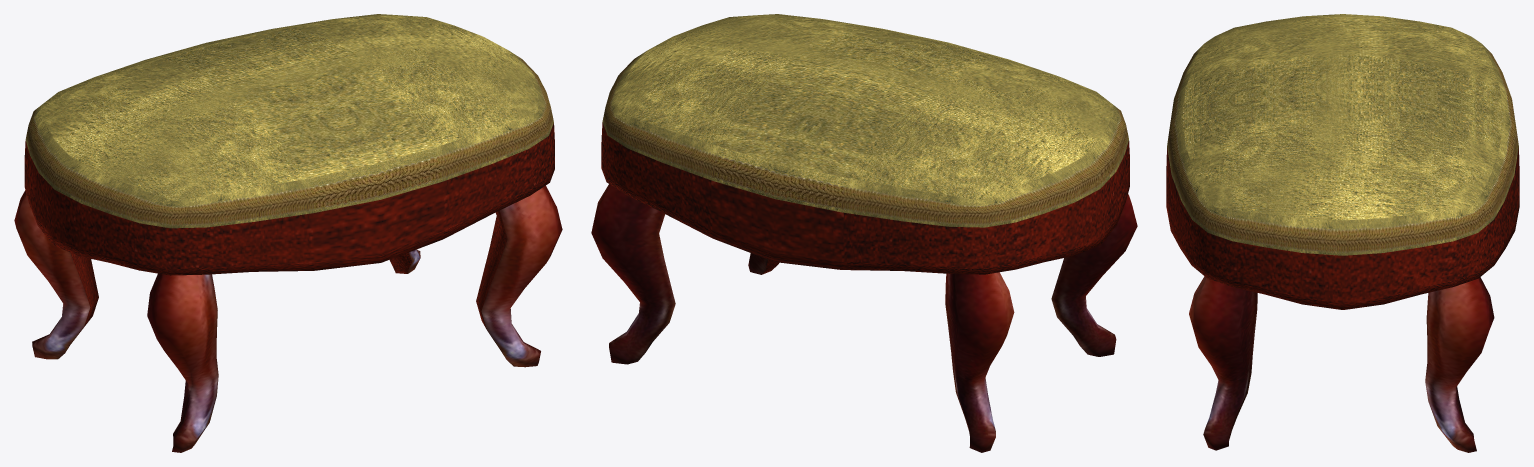
Rendered from Ottoman.fbx.
The picture shows the model from 3 angles, left to right: view 1: azimuth 30°, elevation 25°; view 2: azimuth 150°, elevation 25°; view 3: azimuth 270°, elevation 25°; orthographic projection. The views are drawn at different scales.
Parts seen in each view (by area): view 1: Ottoman; view 2: Ottoman; view 3: Ottoman.
Part boxes in pixels (x1,y1,x2,y2): Ottoman: (14, 14, 562, 452); Ottoman: (591, 14, 1137, 452); Ottoman: (1166, 14, 1519, 452).
Size of the model in its own units: 87.84 by 51.23 by 58.86.
